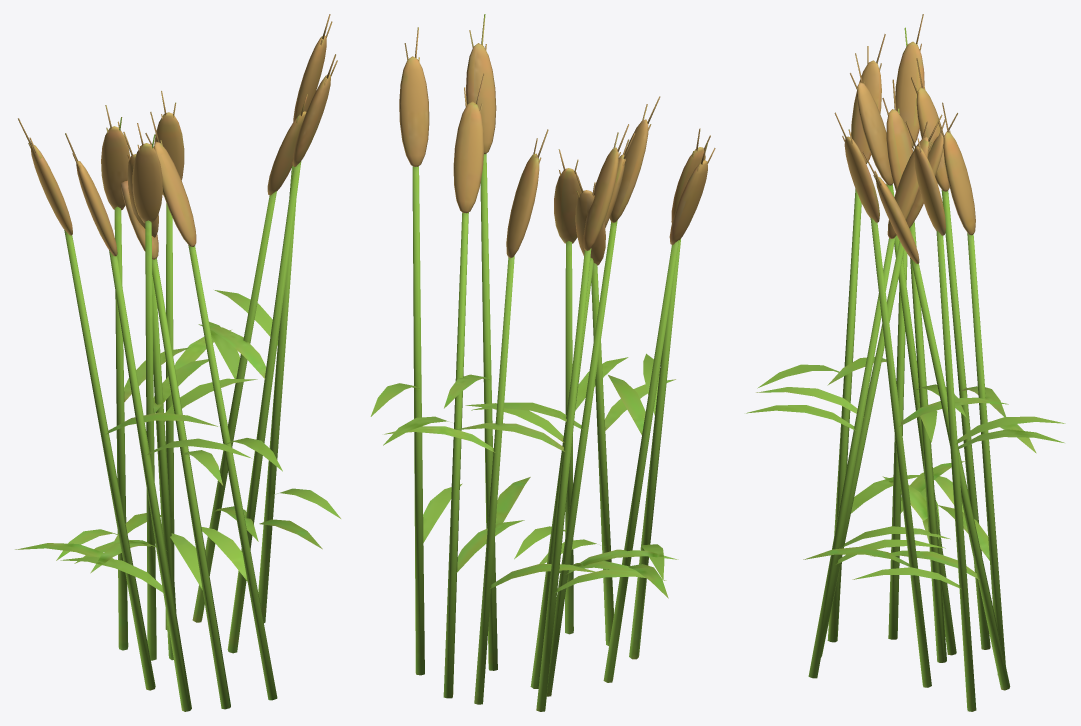
Rendered from crop_spelt.glb.
The picture shows the model from 3 angles, left to right: view 1: azimuth 30°, elevation 25°; view 2: azimuth 150°, elevation 25°; view 3: azimuth 270°, elevation 25°; orthographic projection. The views are drawn at different scales.
Parts seen in each view (by area): view 1: crop_spelt, fruit; view 2: crop_spelt, fruit; view 3: crop_spelt, fruit.
Boxes of the visible parts, x1=… form: crop_spelt: x1=15, y1=161, x2=340, y2=711; fruit: x1=18, y1=14, x2=337, y2=259; crop_spelt: x1=370, y1=153, x2=680, y2=711; fruit: x1=399, y1=14, x2=715, y2=265; crop_spelt: x1=746, y1=184, x2=1065, y2=711; fruit: x1=834, y1=14, x2=975, y2=263.
Size of the model in its own units: 0.2806 by 0.5373 by 0.2594.
1 material, 1 textured.
